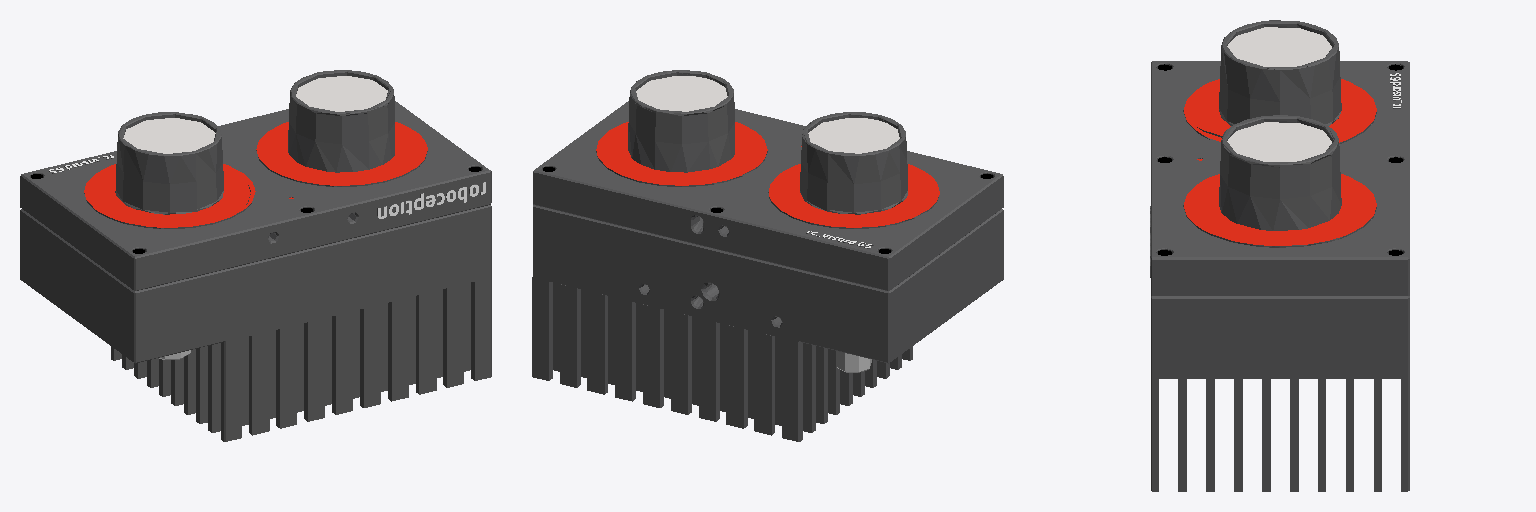
robot.urdf — rc_visard:
<?xml version="1.0"?>
<robot name="rc_visard">
  <link name="camera">
    <visual>
      <geometry>
          <mesh filename="package://rc_visard_description/meshes/visual/rc_visard_65.dae"/>
      </geometry>
    </visual>
    <collision>
      <geometry>
          <mesh filename="package://rc_visard_description/meshes/collision/rc_visard_65.stl"/>
      </geometry>
    </collision>
  </link>
</robot>

--- Facts derived from the render (not from the file) ---
Views: 3 orthographic renders of the robot side by side, from view 1: azimuth 30°, elevation 25°; view 2: azimuth 150°, elevation 25°; view 3: azimuth 270°, elevation 25°.
Model rc_visard with 1 links and 0 joints (none), rooted at camera, posed every joint at zero.
Visible links, largest first — view 1: camera; view 2: camera; view 3: camera.
Boxes of the visible links, x1=… form: camera: x1=20, y1=70, x2=491, y2=441; camera: x1=532, y1=70, x2=1003, y2=441; camera: x1=1150, y1=20, x2=1409, y2=491.
Bounding box of the posed robot: 0.135 × 0.0752 × 0.096 m (x, y, z).
Meshes: 1 distinct files referenced, 1 mesh visuals loaded (1 Collada DAE).